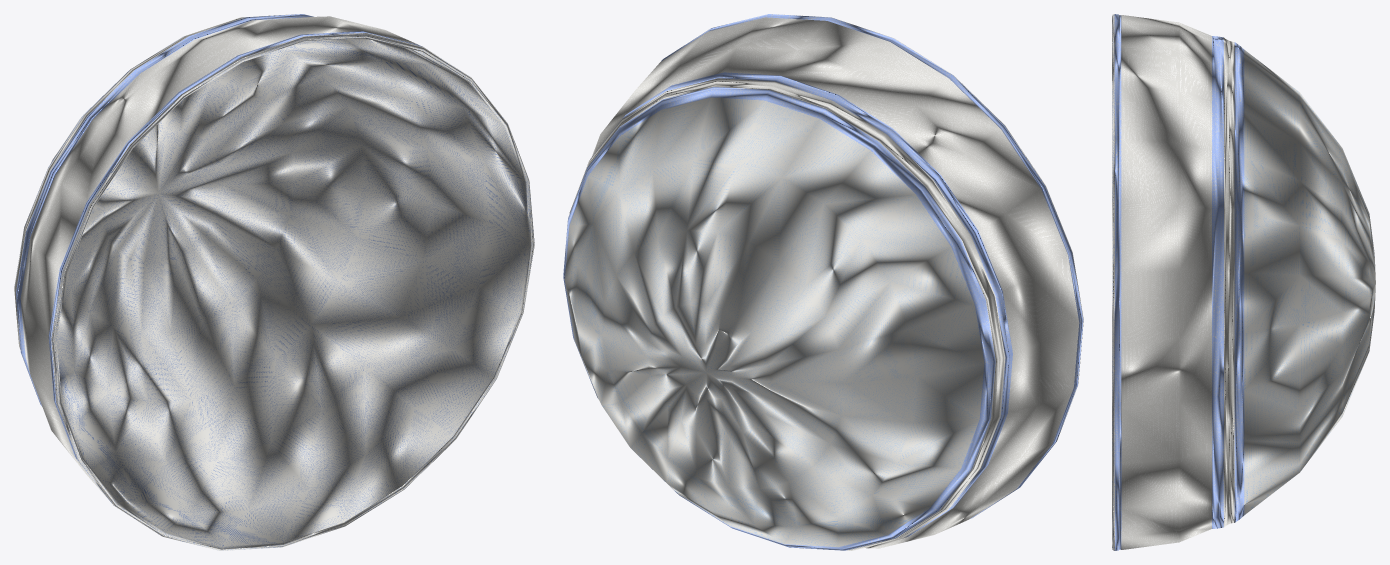
The model's file is model_align.obj.
The picture shows the model from 3 angles, left to right: view 1: azimuth 30°, elevation 25°; view 2: azimuth 150°, elevation 25°; view 3: azimuth 270°, elevation 25°; orthographic projection. The views are drawn at different scales.
Size of the model in its own units: 0.1438 by 0.1438 by 0.0707.
